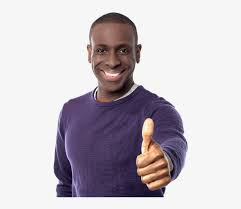noMask: (80, 6, 153, 99)
